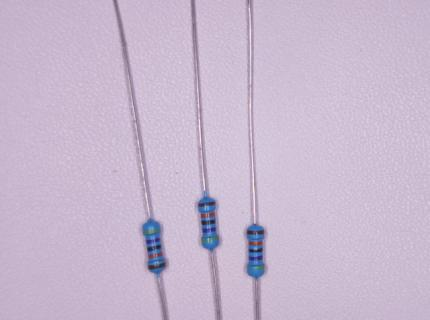Black band: (147, 244, 162, 252), (201, 219, 216, 225), (248, 247, 262, 253)
Brown band: (148, 262, 167, 270), (198, 201, 216, 207), (247, 230, 265, 235)
Orange band: (148, 252, 163, 259), (201, 212, 215, 218), (248, 241, 263, 246)
Violet band: (146, 238, 161, 244), (202, 227, 217, 233), (249, 255, 263, 261)
Yellow band: (143, 229, 161, 234), (201, 237, 219, 242), (247, 265, 265, 270)
